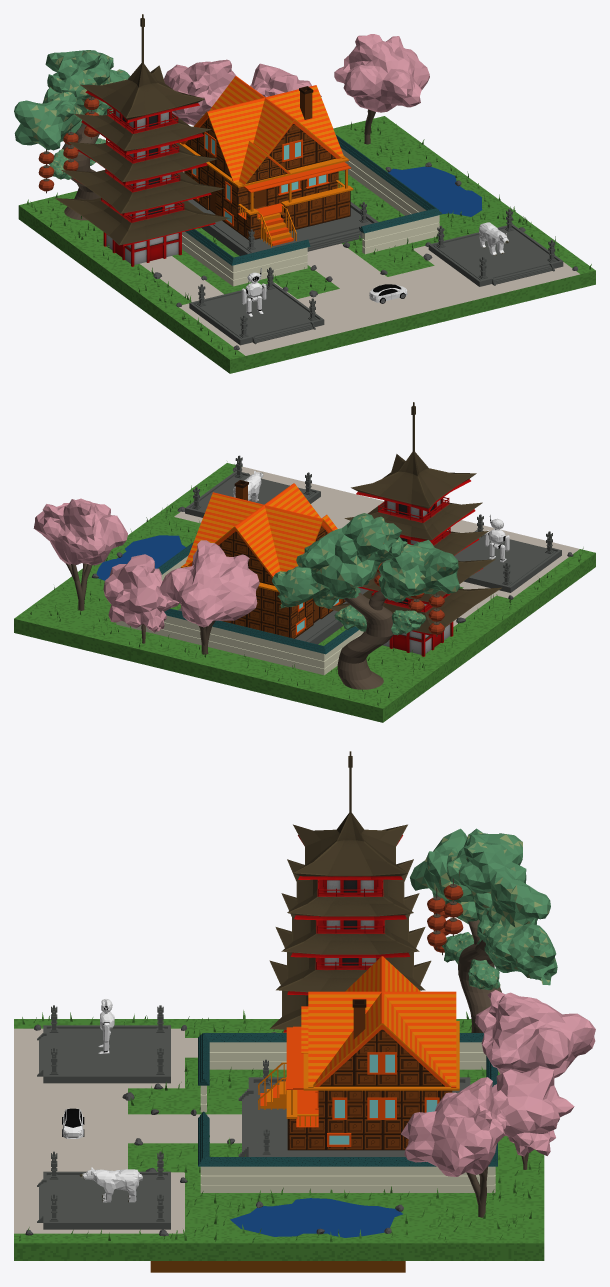
The picture shows the model from 3 angles, top to bottom: view 1: azimuth 30°, elevation 25°; view 2: azimuth 150°, elevation 25°; view 3: azimuth 270°, elevation 25°; orthographic projection. The views are drawn at different scales.
Parts seen in each view (by area): view 1: Cube.005, Cube, OBJRANDOM_PLATZEEBOT, ANIMAL_OSO_POLAR, VEHICLES_TESLA; view 2: Cube.005, Cube, OBJRANDOM_PLATZEEBOT; view 3: Cube.005, Cube, UNDERGROUND_ART_PIECE_VAN_GOGH, ANIMAL_OSO_POLAR.
Part boxes in pixels (x1=…): Cube.005: x1=14, y1=14, x2=595, y2=373; Cube: x1=178, y1=76, x2=353, y2=247; OBJRANDOM_PLATZEEBOT: x1=241, y1=268, x2=266, y2=316; ANIMAL_OSO_POLAR: x1=479, y1=222, x2=508, y2=255; VEHICLES_TESLA: x1=369, y1=284, x2=407, y2=303; Cube.005: x1=14, y1=402, x2=595, y2=722; Cube: x1=180, y1=480, x2=345, y2=638; OBJRANDOM_PLATZEEBOT: x1=484, y1=514, x2=509, y2=562; Cube.005: x1=14, y1=751, x2=595, y2=1260; Cube: x1=258, y1=956, x2=459, y2=1150; UNDERGROUND_ART_PIECE_VAN_GOGH: x1=150, y1=1261, x2=405, y2=1272; ANIMAL_OSO_POLAR: x1=79, y1=1167, x2=142, y2=1202.
Bounding box in the file's own units: 4528 × 2816 × 4389.
36 materials, 7 textured.
